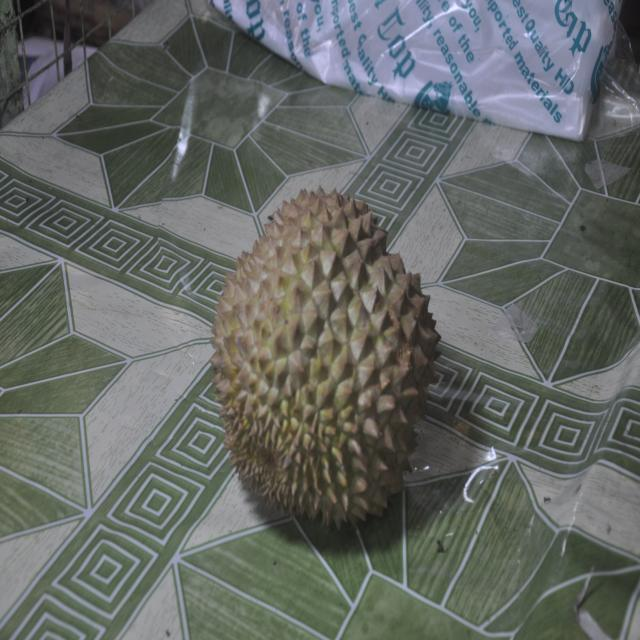mature: (211, 188, 440, 528)
